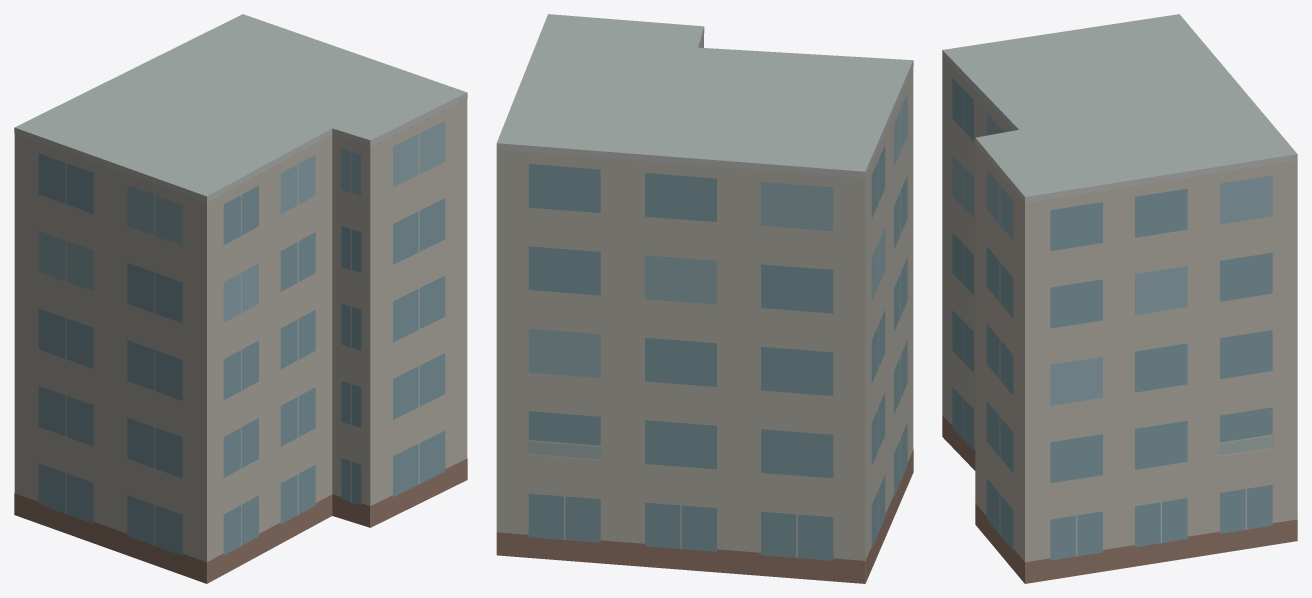
File: survey-upis-32943946.glb
The picture shows the model from 3 angles, left to right: view 1: azimuth 30°, elevation 25°; view 2: azimuth 150°, elevation 25°; view 3: azimuth 270°, elevation 25°; orthographic projection. The views are drawn at different scales.
Visible parts, largest first — view 1: survey-upis-32943946.tmp; view 2: survey-upis-32943946.tmp; view 3: survey-upis-32943946.tmp.
Boxes of the visible parts, <box> form: survey-upis-32943946.tmp: <box>14,14,467,583</box>; survey-upis-32943946.tmp: <box>496,14,913,583</box>; survey-upis-32943946.tmp: <box>942,14,1297,583</box>.
Size of the model in its own units: 15.84 by 15.6 by 13.
